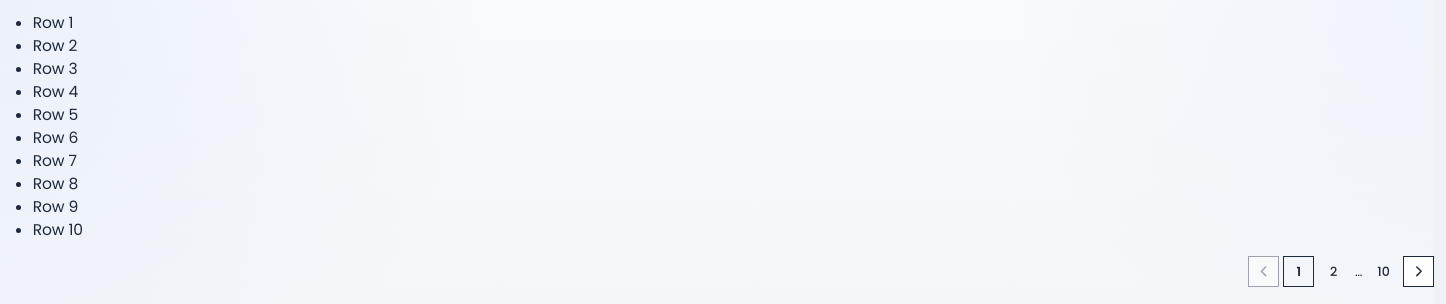
Test: Pagination › shows first, last and the pages around the current one, with gaps
Click the button named "Page 10": (1384, 272) [1368,256,1399,287]
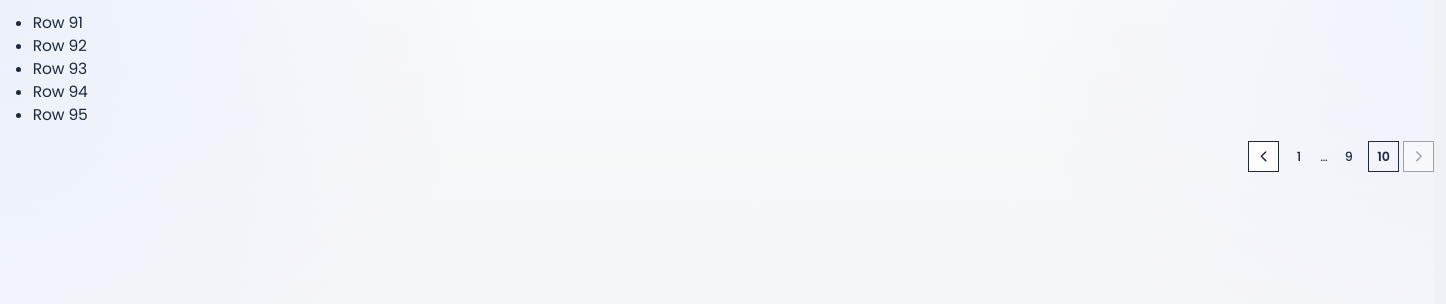
Click the button named "Page 9": (1349, 156) [1333,141,1364,172]
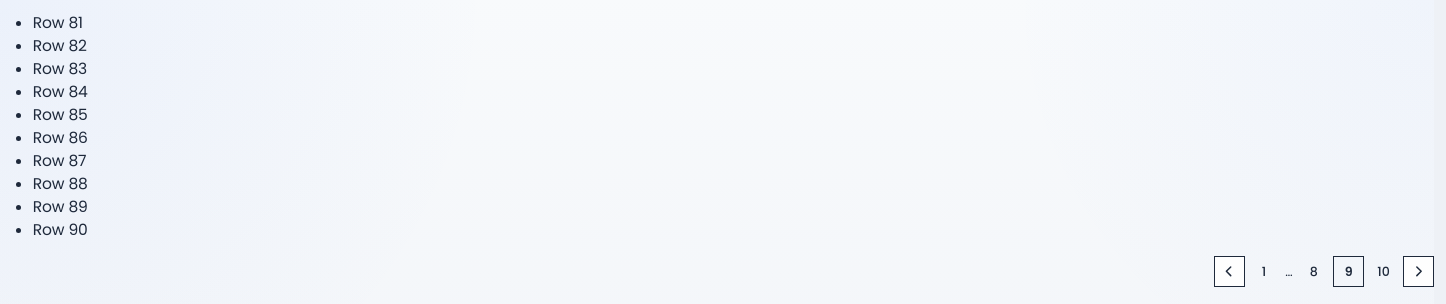
Click the button named "Page 8": (1314, 272) [1298,256,1329,287]
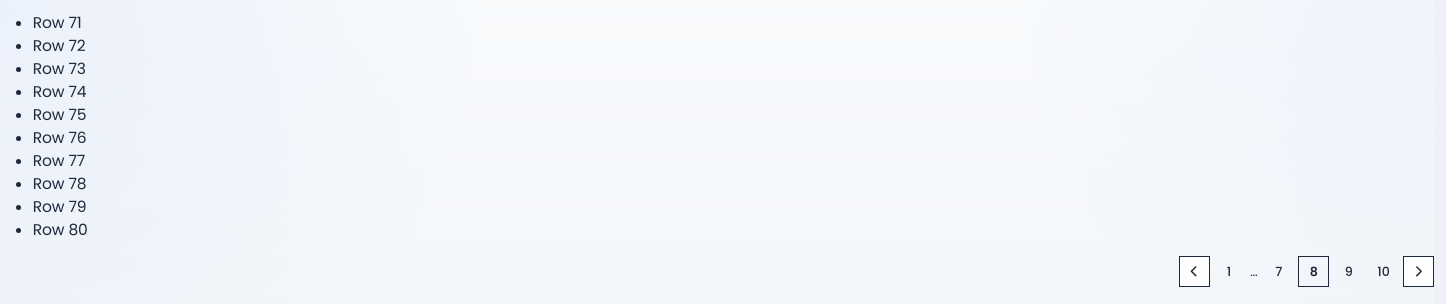
Click the button named "Page 7": (1279, 272) [1263,256,1294,287]
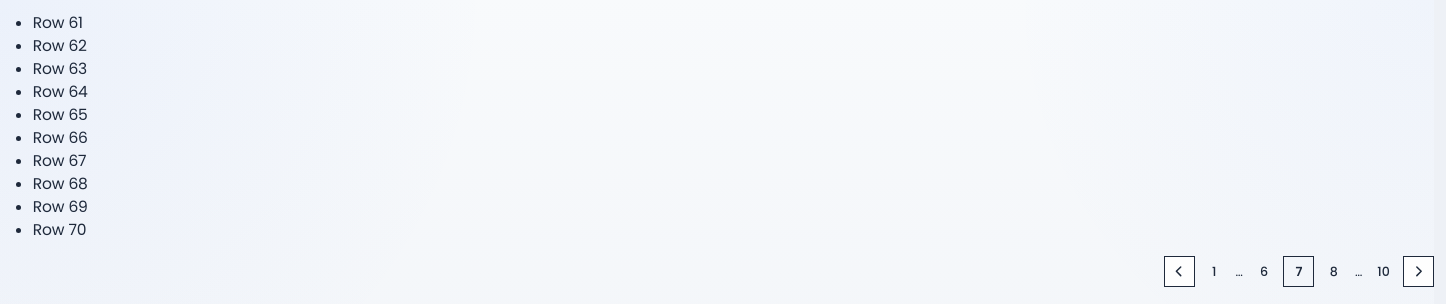
Click the button named "Page 6": (1264, 272) [1248,256,1279,287]
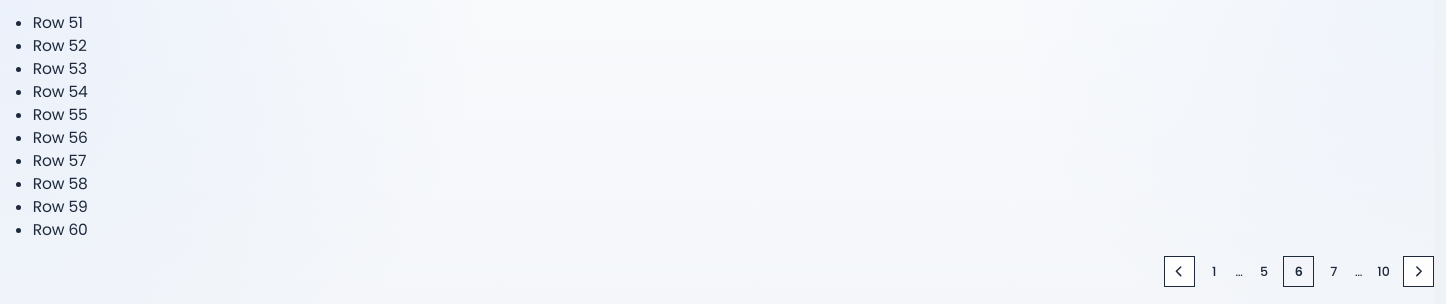
Check: the buttons "Page " read "1", "5", "6", "7", "10", in this order, box [1199,256,1230,287]; [1248,256,1279,287]; [1283,256,1314,287]; [1318,256,1349,287]; [1368,256,1399,287]
